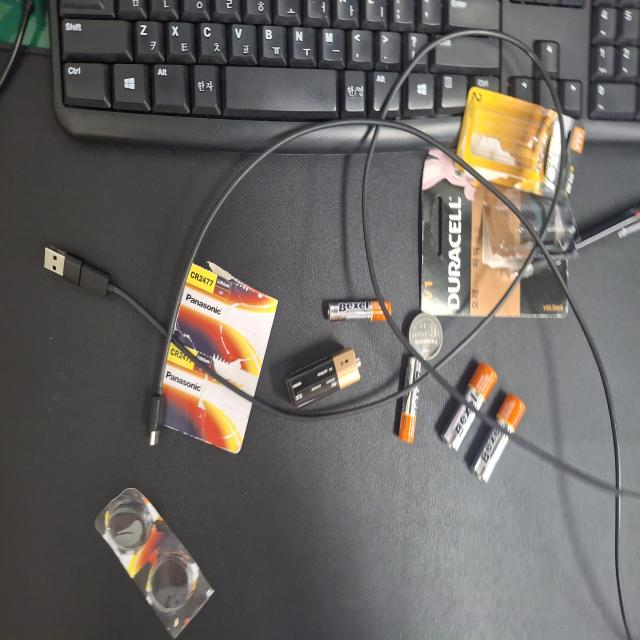9V: (261, 369, 307, 466)
AA: (271, 188, 340, 264), (294, 151, 360, 224)
AAA: (268, 292, 332, 322), (224, 331, 242, 415)
COIN: (234, 262, 271, 307)
